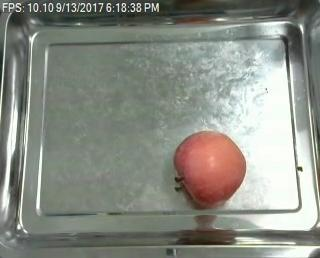apple: (173, 130, 247, 207)
